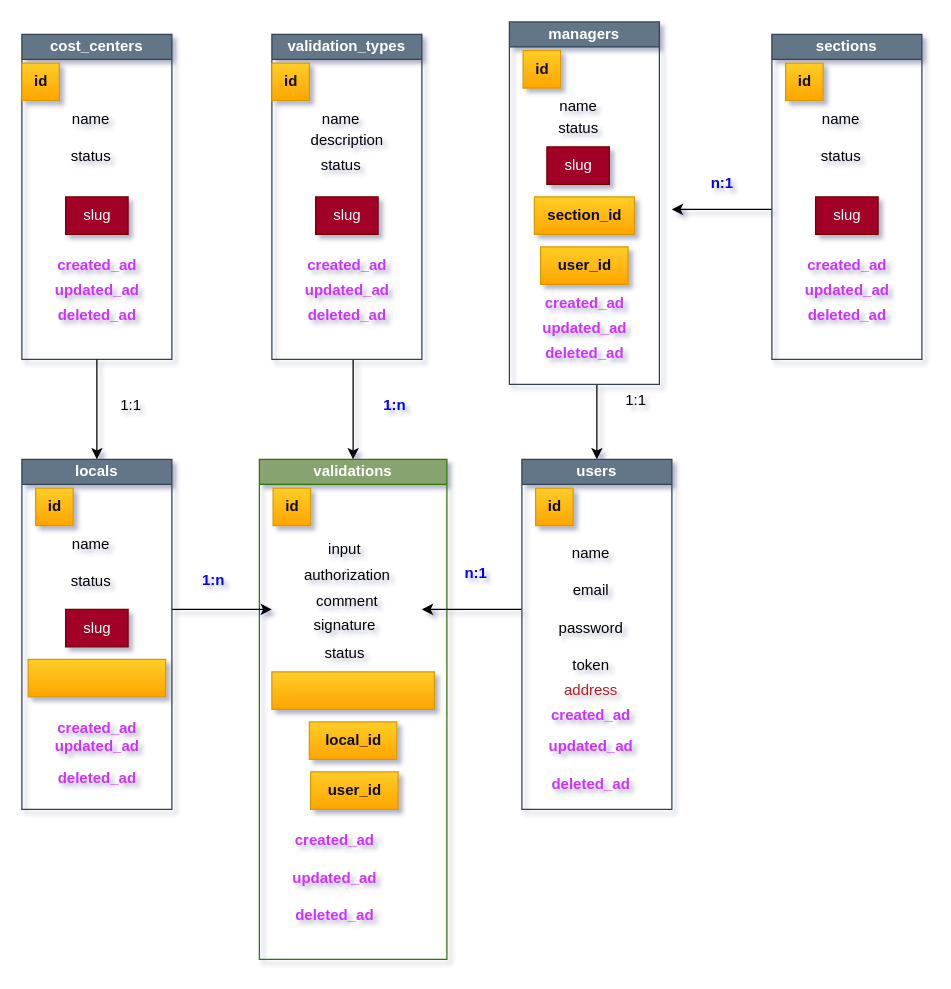
The diagram is 951 pixels wide and 989 high, and some of its shapes have lost their labels. The centre of each missing label's shape, as x and y in pixels:
cost_center_id: the point at 96,677
validation_type_id: the point at 352,690
